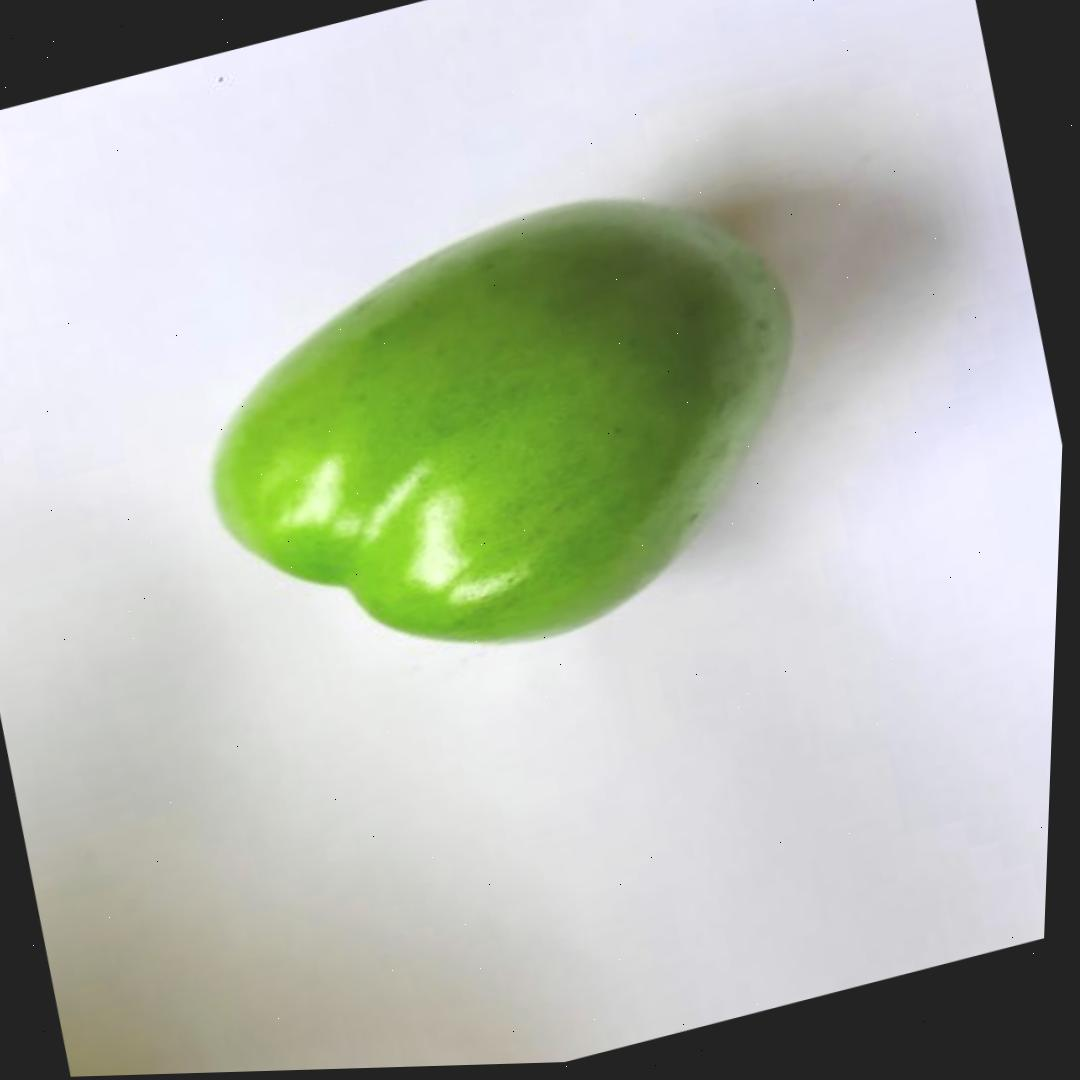mentah: (154, 144, 859, 719)
